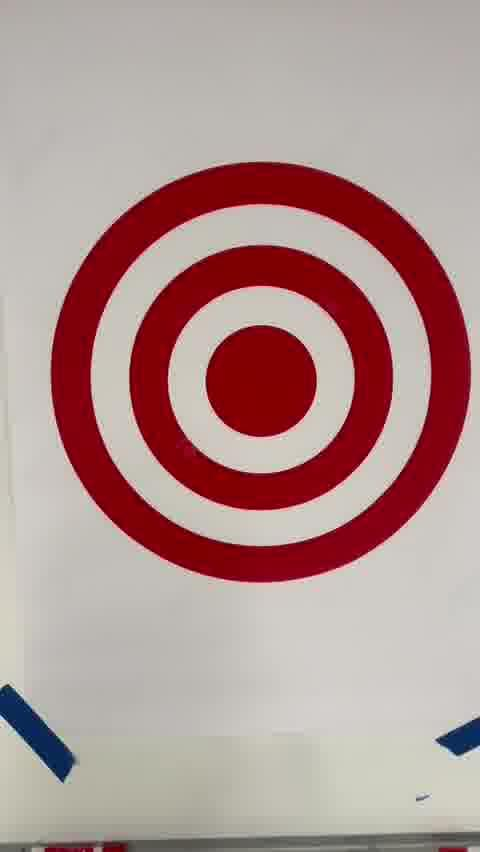target_red: (50, 161, 472, 584)
